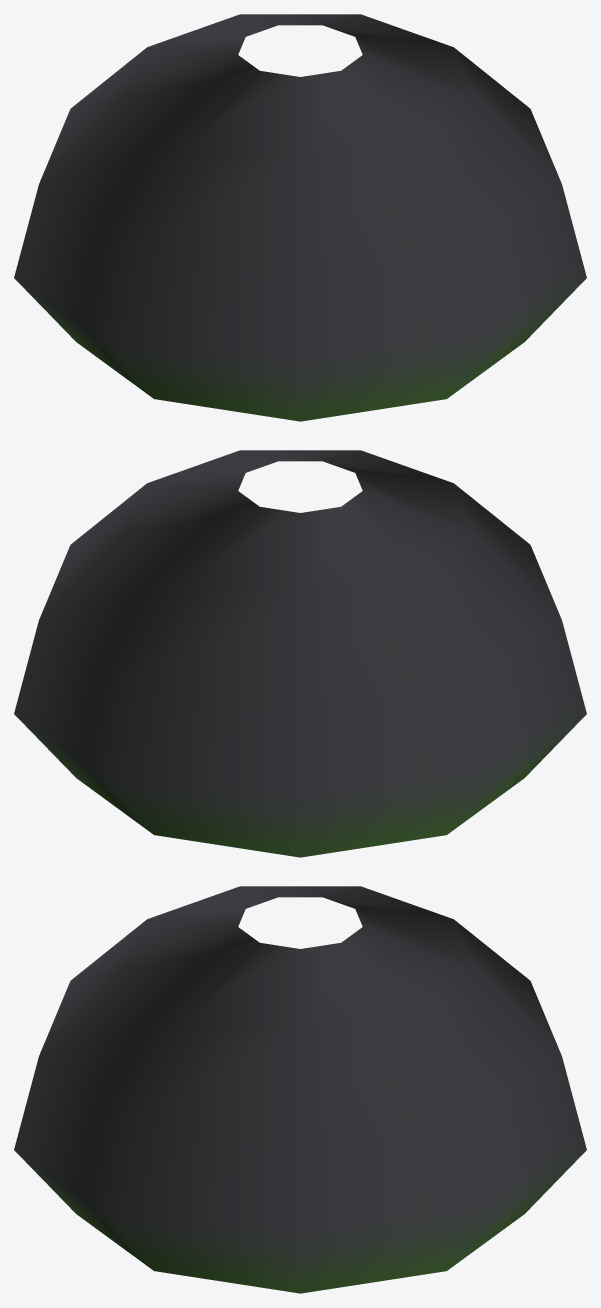
The model's file is basalt_boulder.glb.
3 views of the same model, one above another, from view 1: azimuth 30°, elevation 25°; view 2: azimuth 150°, elevation 25°; view 3: azimuth 270°, elevation 25° (orthographic).
Parts seen in each view (by area): view 1: Node_BasaltBoulder; view 2: Node_BasaltBoulder; view 3: Node_BasaltBoulder.
Boxes of the visible parts, <box> form: Node_BasaltBoulder: <box>14,14,586,421</box>; Node_BasaltBoulder: <box>14,450,586,857</box>; Node_BasaltBoulder: <box>14,886,586,1293</box>.
Bounding box in the file's own units: 4.46 × 2.4 × 4.53.
1 material, 1 textured.
